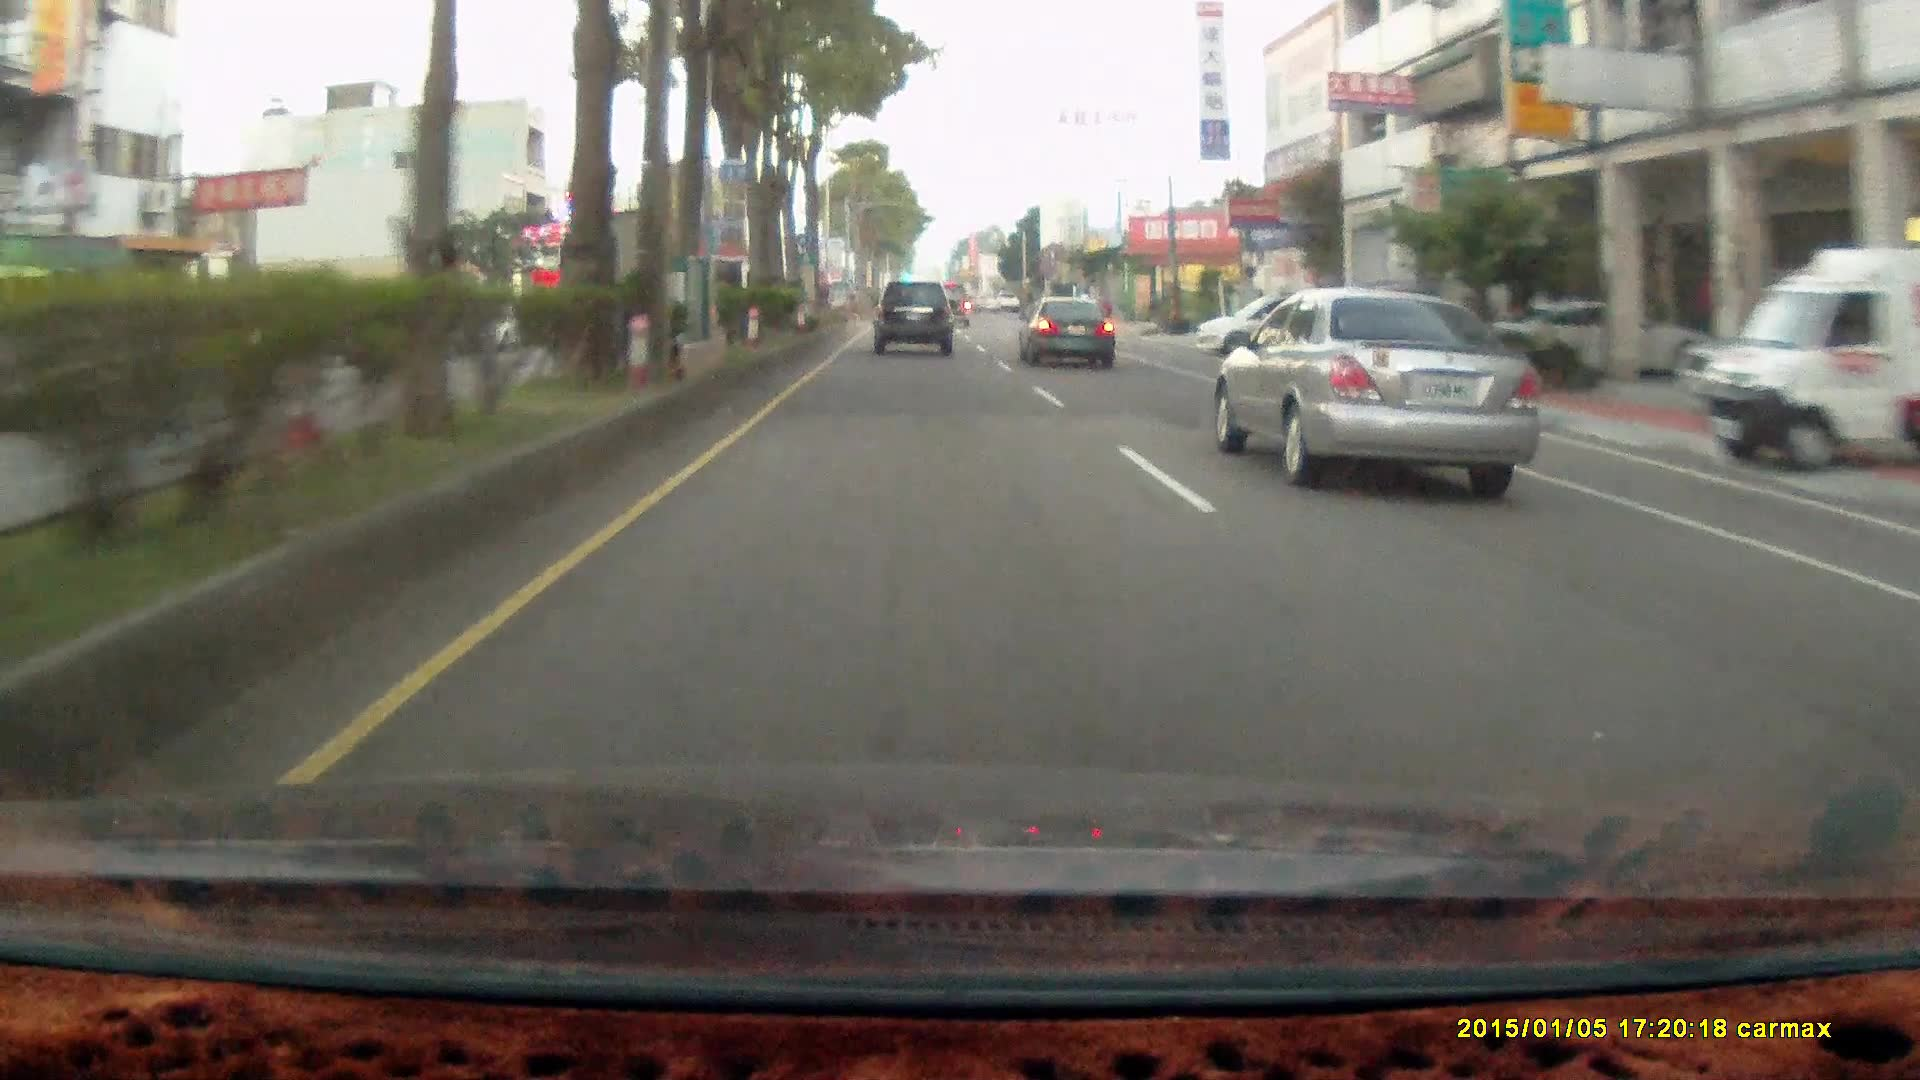vehicle: (1218, 291, 1545, 488), (1696, 251, 1920, 480), (1474, 301, 1716, 382), (1317, 285, 1477, 389), (1203, 301, 1364, 369), (1193, 294, 1350, 363), (1017, 295, 1121, 371), (1017, 295, 1116, 369), (873, 282, 957, 360), (872, 282, 953, 357)
